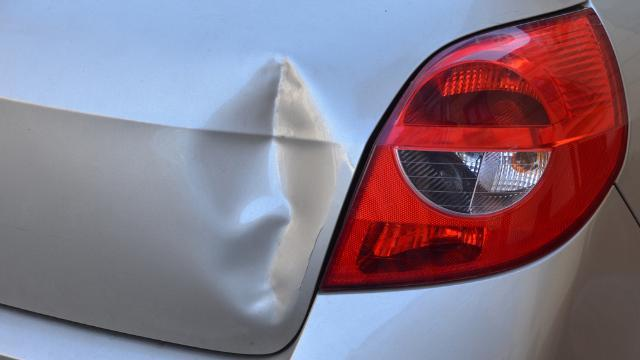dent: (179, 57, 338, 324)
